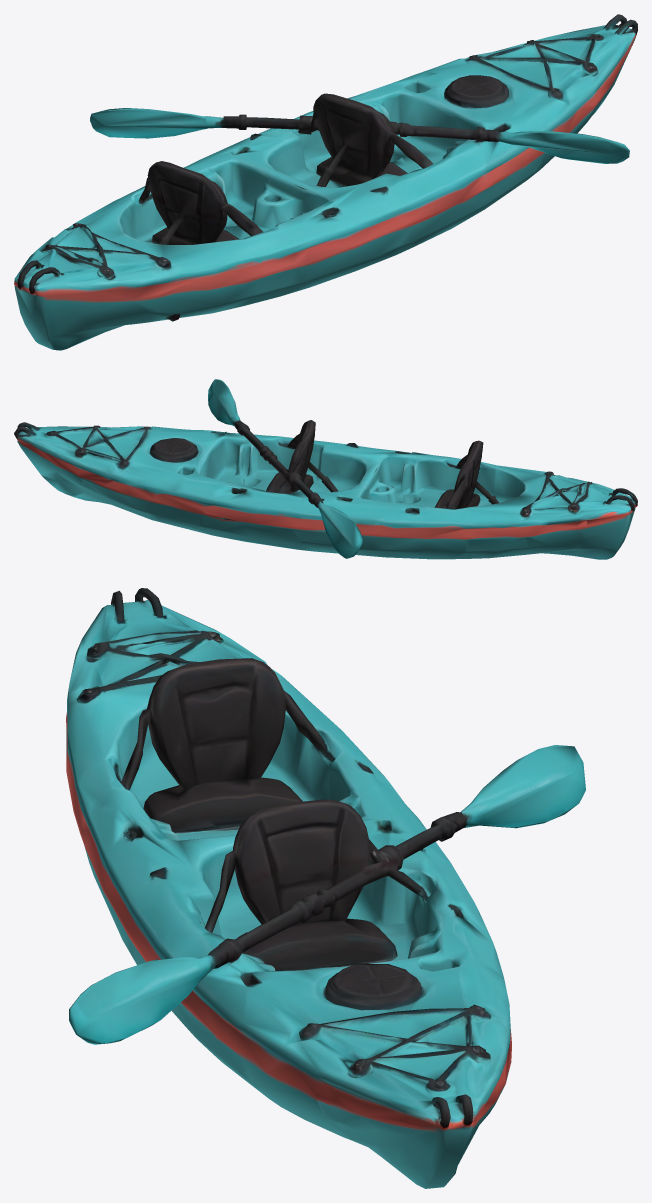
File: boat-kayak.glb
3 views of the same model, one above another, from view 1: azimuth 30°, elevation 25°; view 2: azimuth 150°, elevation 25°; view 3: azimuth 270°, elevation 25° (orthographic). The views are drawn at different scales.
Visible parts, largest first — view 1: tripo_node_c823f846-03be-423d-ac16-09c63305f316; view 2: tripo_node_c823f846-03be-423d-ac16-09c63305f316; view 3: tripo_node_c823f846-03be-423d-ac16-09c63305f316.
Part boxes in pixels (x1=…): tripo_node_c823f846-03be-423d-ac16-09c63305f316: x1=14, y1=14, x2=637, y2=350; tripo_node_c823f846-03be-423d-ac16-09c63305f316: x1=14, y1=379, x2=637, y2=559; tripo_node_c823f846-03be-423d-ac16-09c63305f316: x1=66, y1=588, x2=585, y2=1188.
Size of the model in its own units: 1 by 0.1679 by 0.4173.
Materials: 1 (1 with a texture image).
